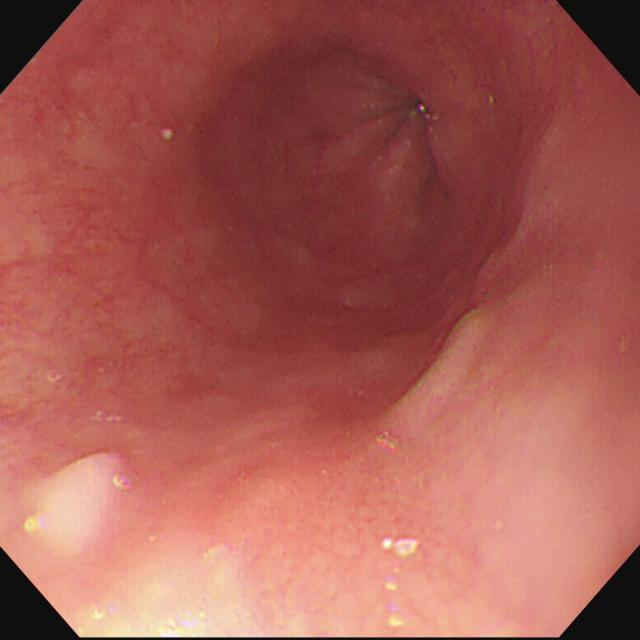I: (311, 42, 465, 210)
J: (21, 450, 126, 558)
U: (381, 537, 419, 559)
